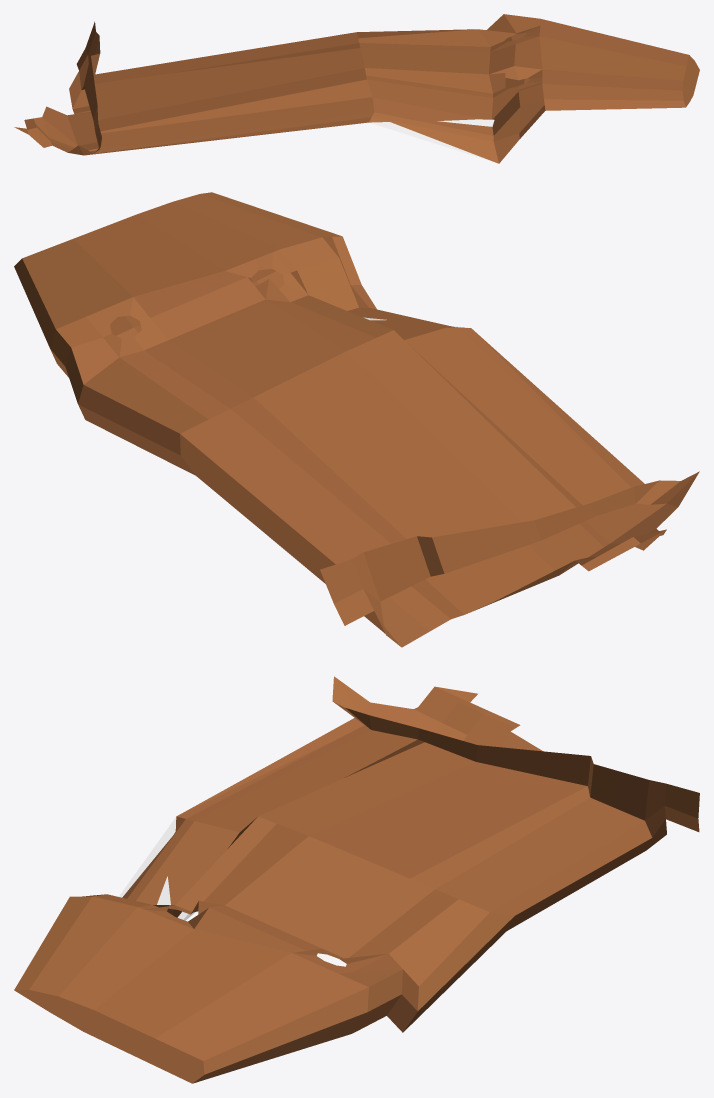
Rendered from Flügel.fbx.
The picture shows the model from 3 angles, top to bottom: view 1: azimuth 30°, elevation 25°; view 2: azimuth 150°, elevation 25°; view 3: azimuth 270°, elevation 25°; orthographic projection. The views are drawn at different scales.
Parts seen in each view (by area): view 1: halber Flügel_crash.001; view 2: halber Flügel_crash.001; view 3: halber Flügel_crash.001.
Boxes of the visible parts, bbox=[...] form: halber Flügel_crash.001: bbox=[14, 14, 699, 163]; halber Flügel_crash.001: bbox=[14, 192, 699, 647]; halber Flügel_crash.001: bbox=[14, 676, 699, 1083].
Size of the model in its own units: 495 by 80.16 by 375.
